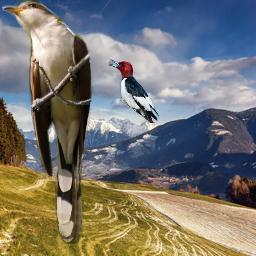Cuckoo: (2, 0, 93, 244)
Woodpecker: (107, 58, 160, 123)
